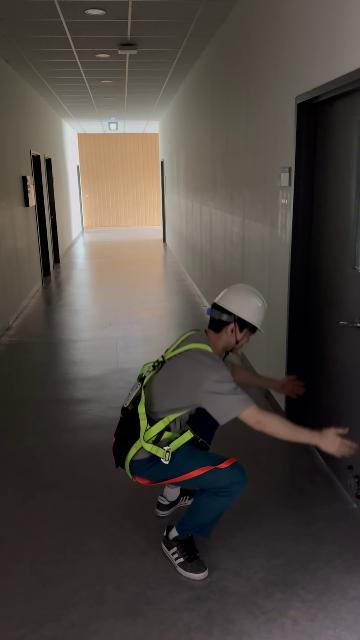helmet_worn: (211, 283, 269, 333)
shoe_not_worn: (161, 527, 207, 579), (155, 486, 196, 517)
vest_worn: (110, 334, 217, 480)
